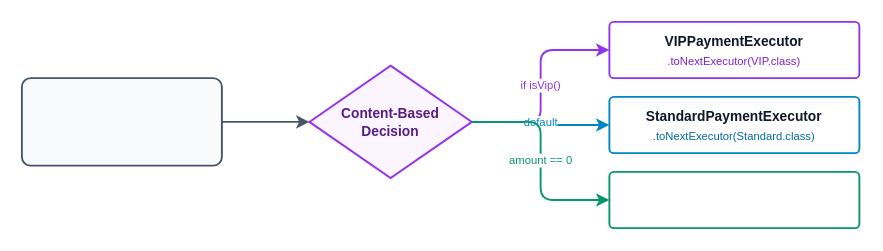
This 883x251 diagram has some shape labels left out. Here are the shapes that lost their labels. From the top down, the centre of each, then its label:
the point at 121,121: Current Executor Evaluates Aggregate (DomainEntity)
the point at 734,199: Terminal Seal: complete() Amount == $0 (No Payment Needed)
